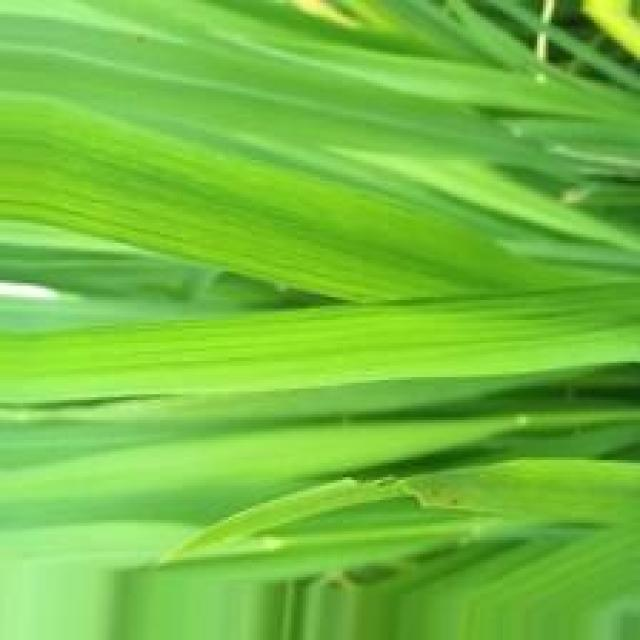HealthyLeaf: (0, 94, 633, 304), (0, 277, 640, 405), (426, 454, 640, 532)
